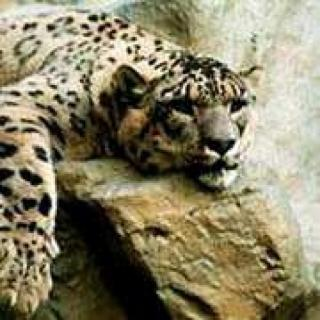-: (12, 0, 266, 271)
